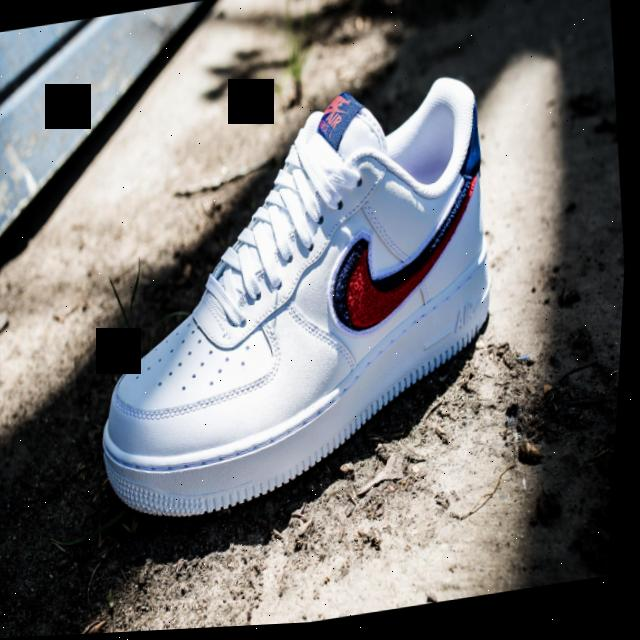shoes: (69, 64, 527, 532)
